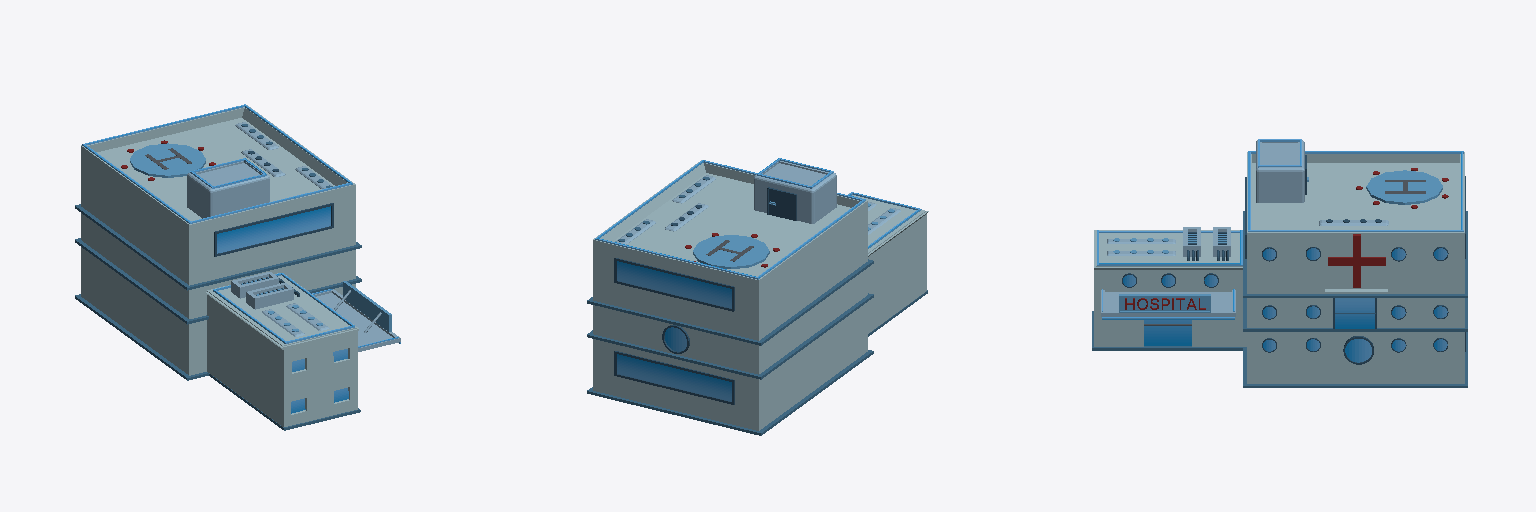
The picture shows the model from 3 angles: view 1: azimuth 30°, elevation 25°; view 2: azimuth 150°, elevation 25°; view 3: azimuth 270°, elevation 25°; orthographic projection.
Size of the model in its own units: 334 by 329 by 625.
Materials: 1 (1 with a texture image).